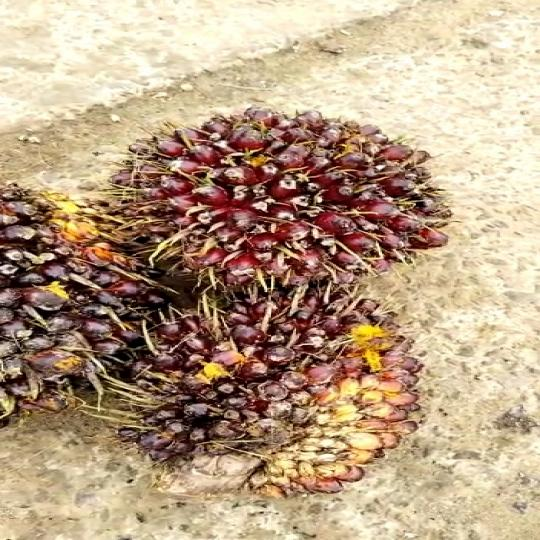kurang masak: (99, 277, 421, 495), (99, 114, 469, 276)
